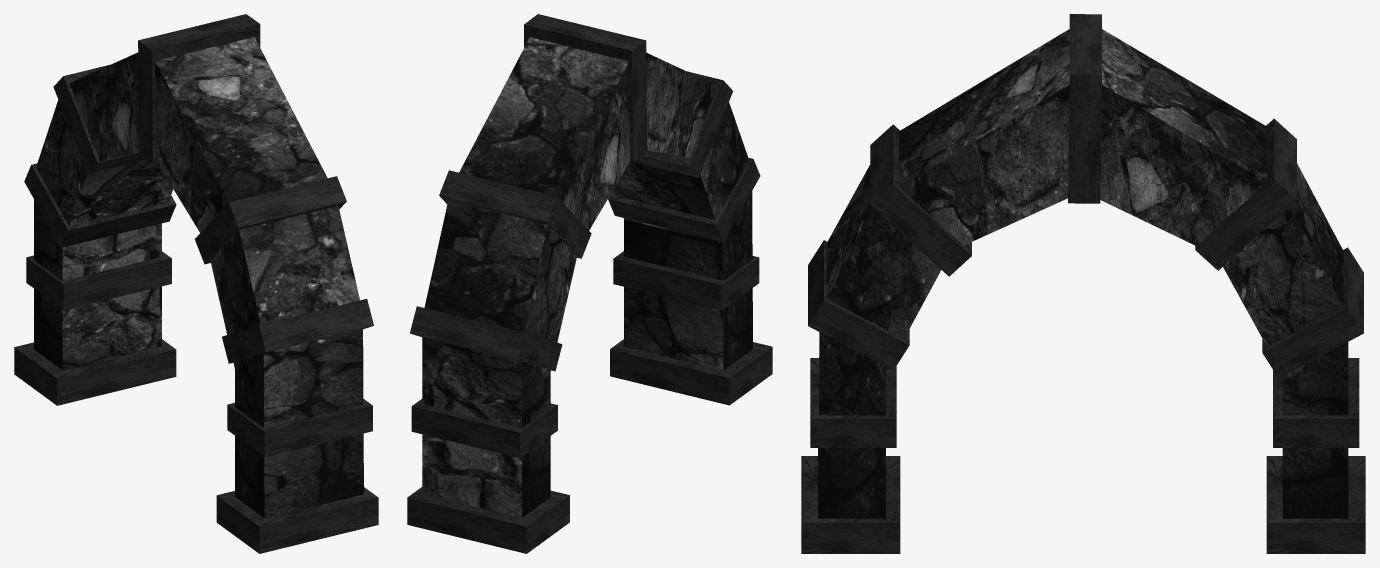
File: GateBridge 1.FBX
3 views of the same model, side by side, from view 1: azimuth 30°, elevation 25°; view 2: azimuth 150°, elevation 25°; view 3: azimuth 270°, elevation 25° (orthographic). The views are drawn at different scales.
Parts seen in each view (by area): view 1: Line001, Box001, Box002, Box010, Box009, Box007, Box003, Box004, Box005, Box006; view 2: Line001, Box002, Box001, Box010, Box006, Box003, Box004, Box005, Box007, Box009; view 3: Line001, Box010, Box002, Box001, Box006, Box009, Box005, Box007, Box003, Box004.
Boxes of the visible parts, left/top/right/bottom form: Line001: left=34, top=37, right=363, bottom=518; Box001: left=216, top=487, right=378, bottom=553; Box002: left=14, top=339, right=176, bottom=405; Box010: left=138, top=14, right=260, bottom=162; Box009: left=194, top=176, right=346, bottom=264; Box007: left=222, top=299, right=373, bottom=363; Box003: left=26, top=251, right=171, bottom=309; Box004: left=227, top=399, right=372, bottom=457; Box005: left=24, top=163, right=176, bottom=247; Box006: left=53, top=65, right=147, bottom=173; Line001: left=422, top=37, right=752, bottom=517; Box002: left=407, top=487, right=569, bottom=553; Box001: left=610, top=339, right=772, bottom=405; Box010: left=524, top=14, right=646, bottom=162; Box006: left=439, top=170, right=591, bottom=258; Box003: left=411, top=399, right=557, bottom=457; Box004: left=613, top=251, right=759, bottom=310; Box005: left=410, top=306, right=562, bottom=371; Box007: left=608, top=158, right=760, bottom=241; Box009: left=634, top=71, right=732, bottom=177; Line001: left=818, top=29, right=1348, bottom=518; Box010: left=1068, top=14, right=1101, bottom=203; Box002: left=1266, top=456, right=1365, bottom=553; Box001: left=801, top=456, right=900, bottom=553; Box006: left=1195, top=118, right=1296, bottom=270; Box009: left=870, top=124, right=971, bottom=276; Box005: left=1262, top=247, right=1363, bottom=377; Box007: left=808, top=240, right=909, bottom=370; Box003: left=1273, top=358, right=1359, bottom=447; Box004: left=810, top=358, right=896, bottom=447.
Bounding box in the file's own units: 24 × 80.23 × 85.57.
2 materials, 2 textured.
